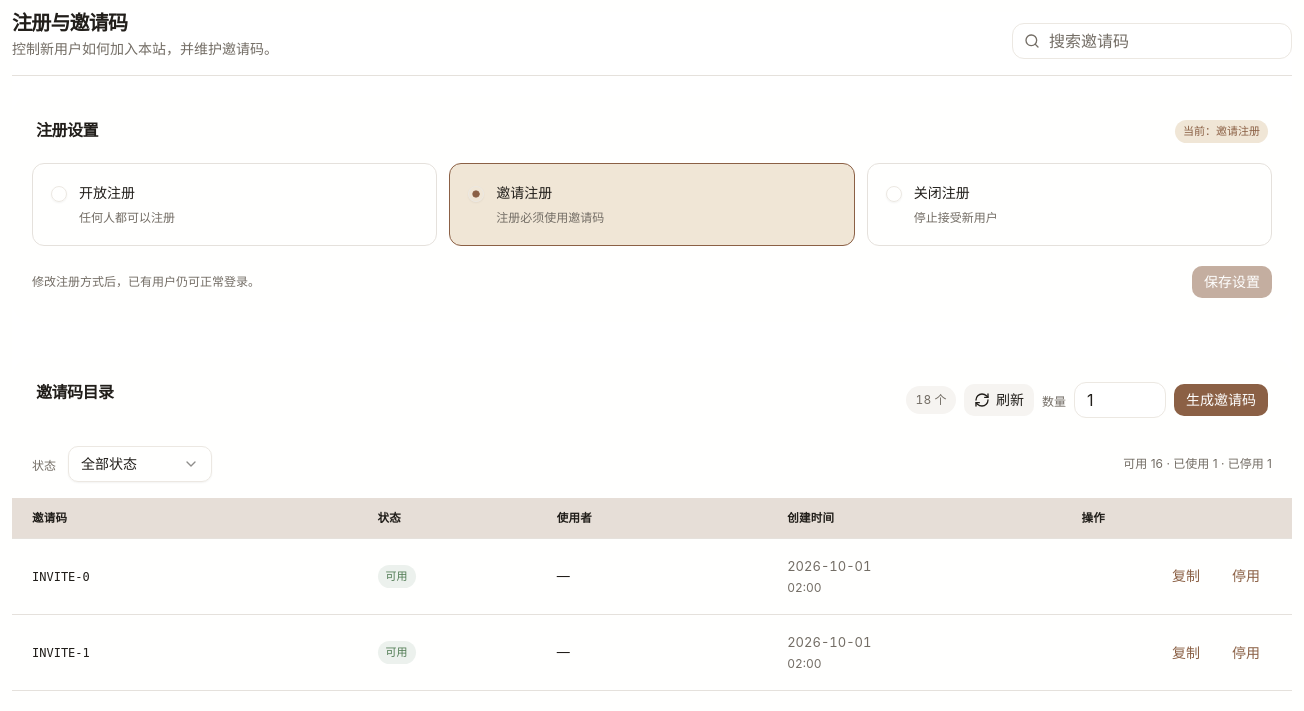
Test case: 账户剩余页面接入 › 注册设置仅保存有变化的草稿，并更新生效方式
Check: the button "保存设置" is disabled, box [1192, 266, 1272, 298]
Click the radio button named "开放注册 任何人都可以注册". click: (59, 194)
box: [51, 186, 67, 202]
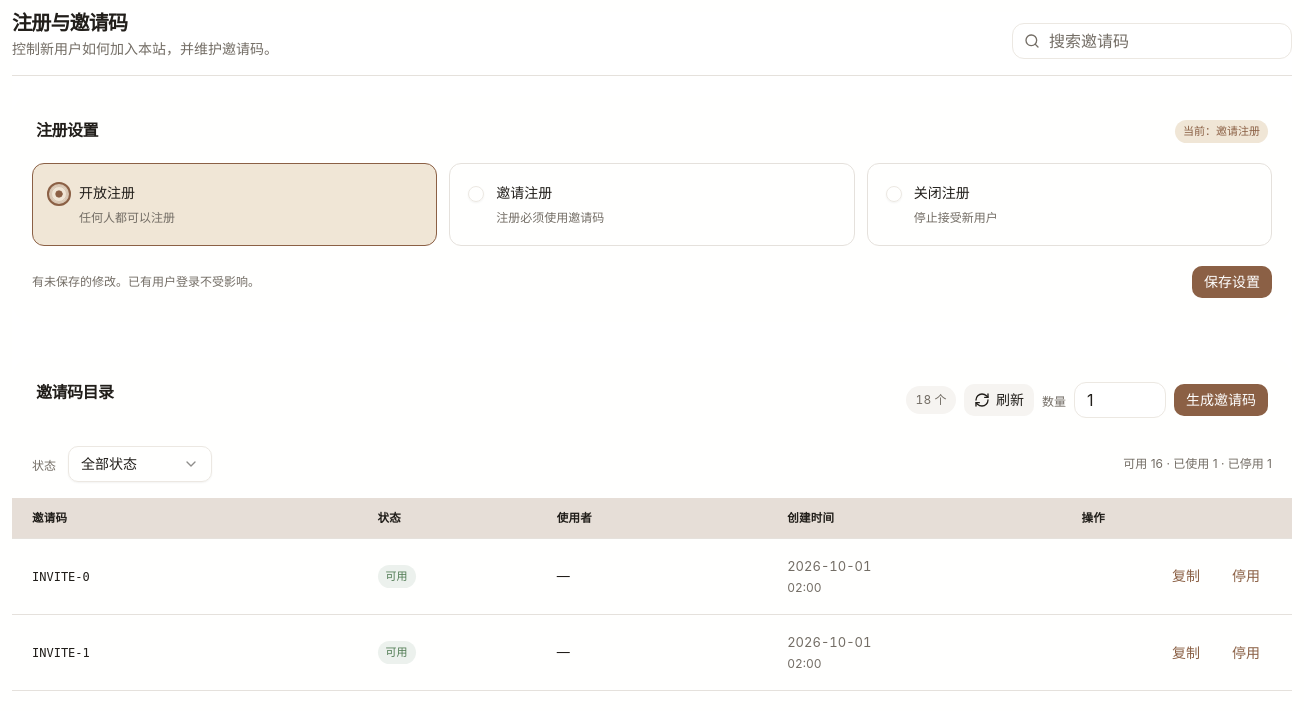
Click the button "保存设置". click: (1232, 282)
box: [1192, 266, 1272, 298]
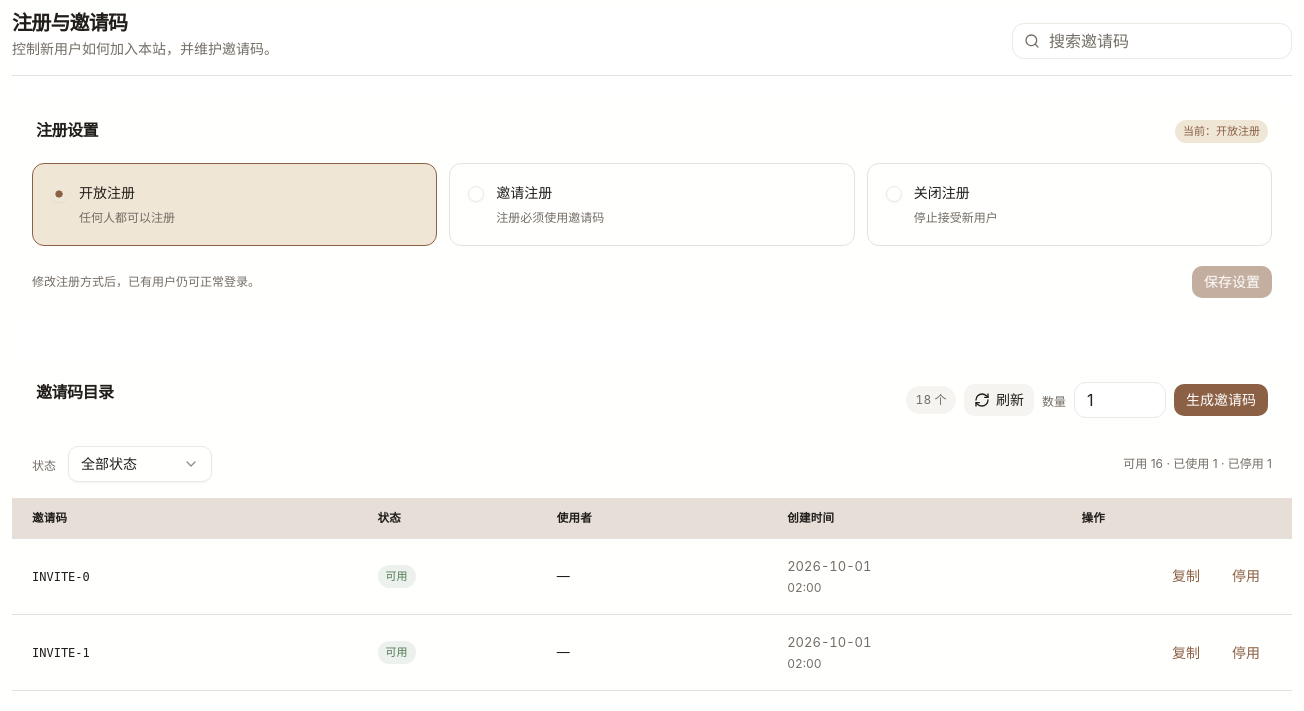
Check: the text "当前：开放注册" is shown, box [1175, 120, 1268, 142]
Check: the button "保存设置" is disabled, box [1192, 266, 1272, 298]
